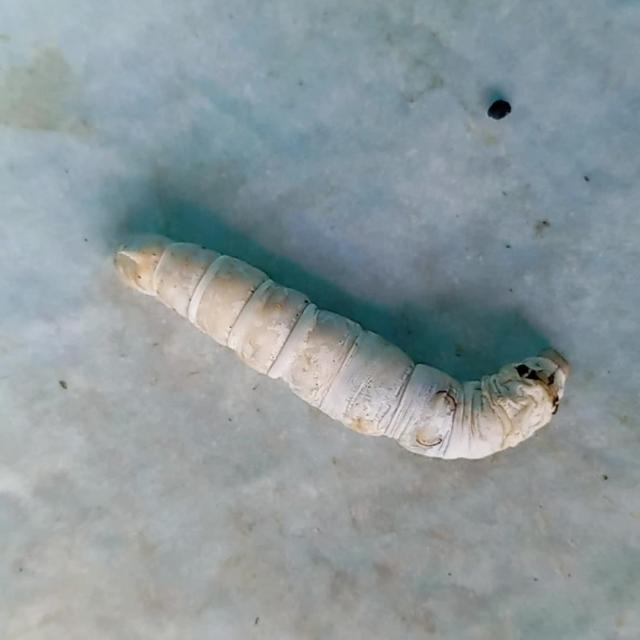Grasserie: (80, 188, 620, 469)
